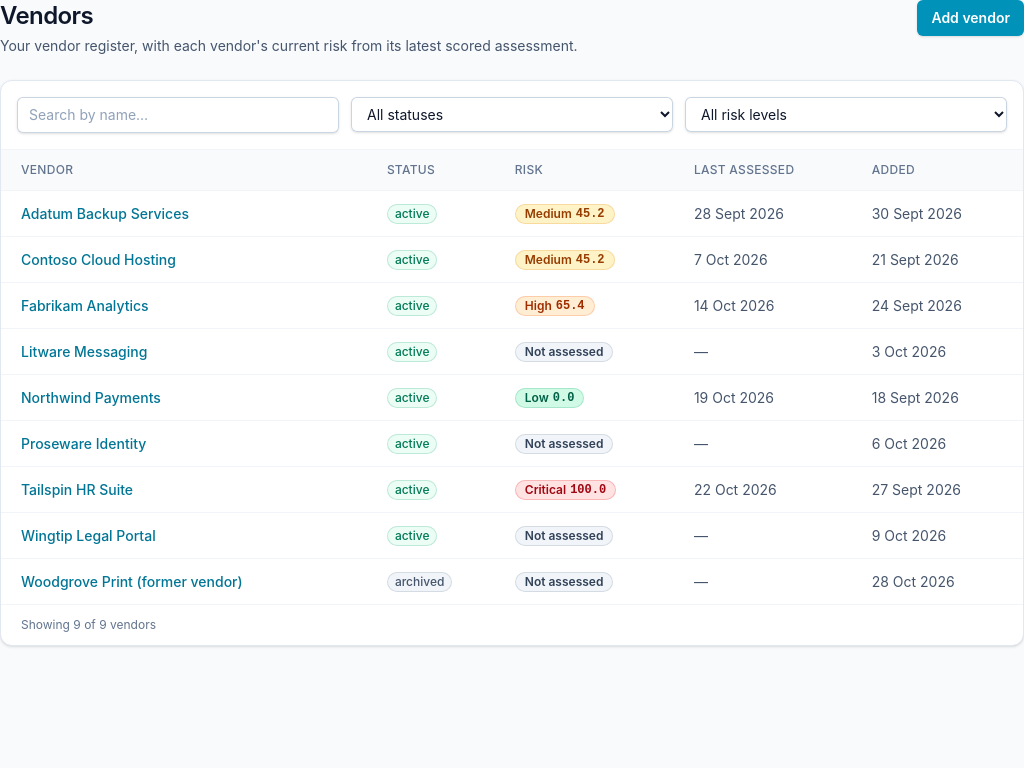
Vendor register › closes the dialog with Escape
The image size is (1024, 768).
Expected: the link "Northwind Payments" is shown, [21, 388, 161, 406]
Click the button "Add vendor".
click(971, 18)  # box [917, 0, 1023, 36]
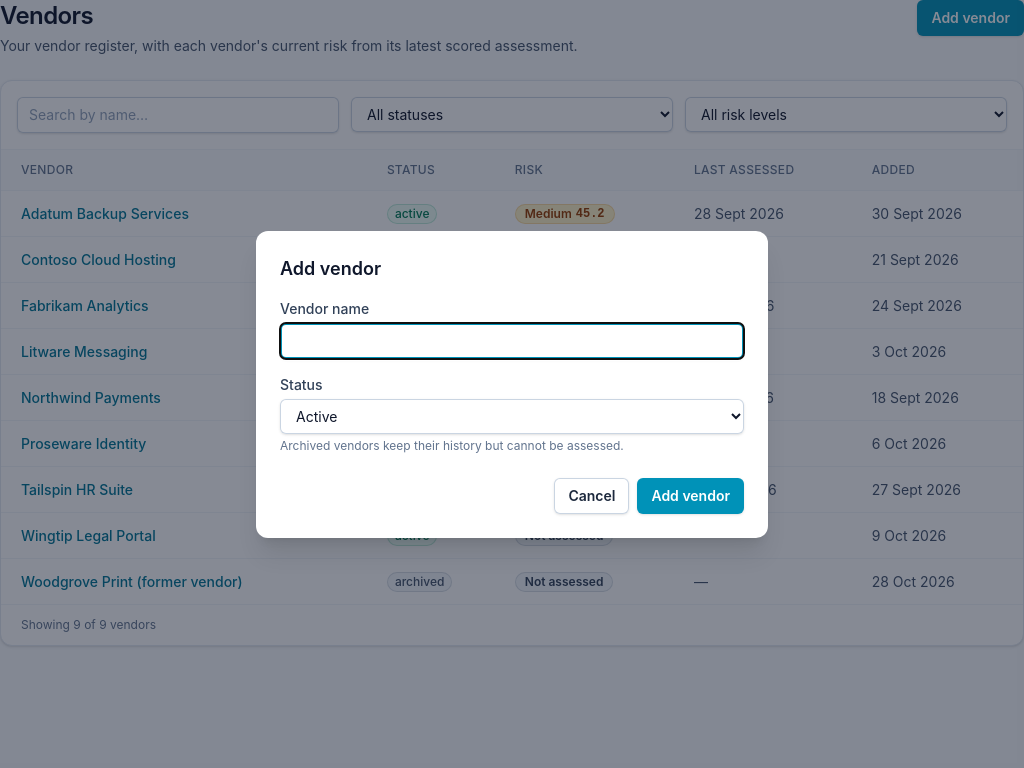
Press Escape
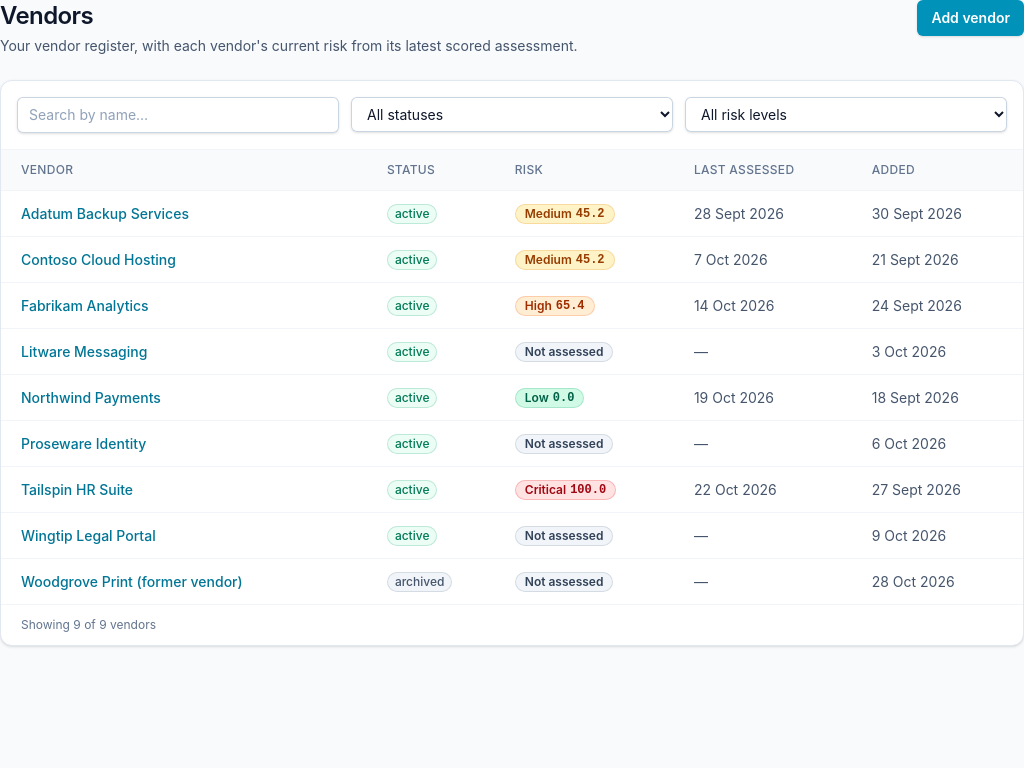
Result: the dialog is gone
